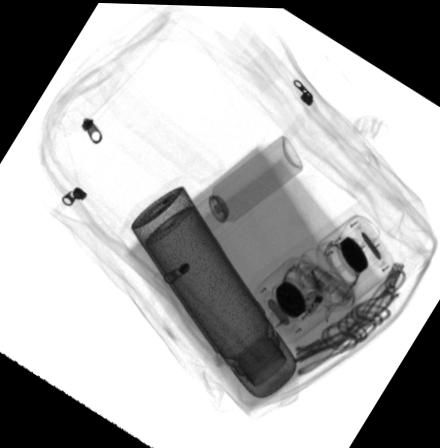Sprayer: (190, 133, 302, 236)
